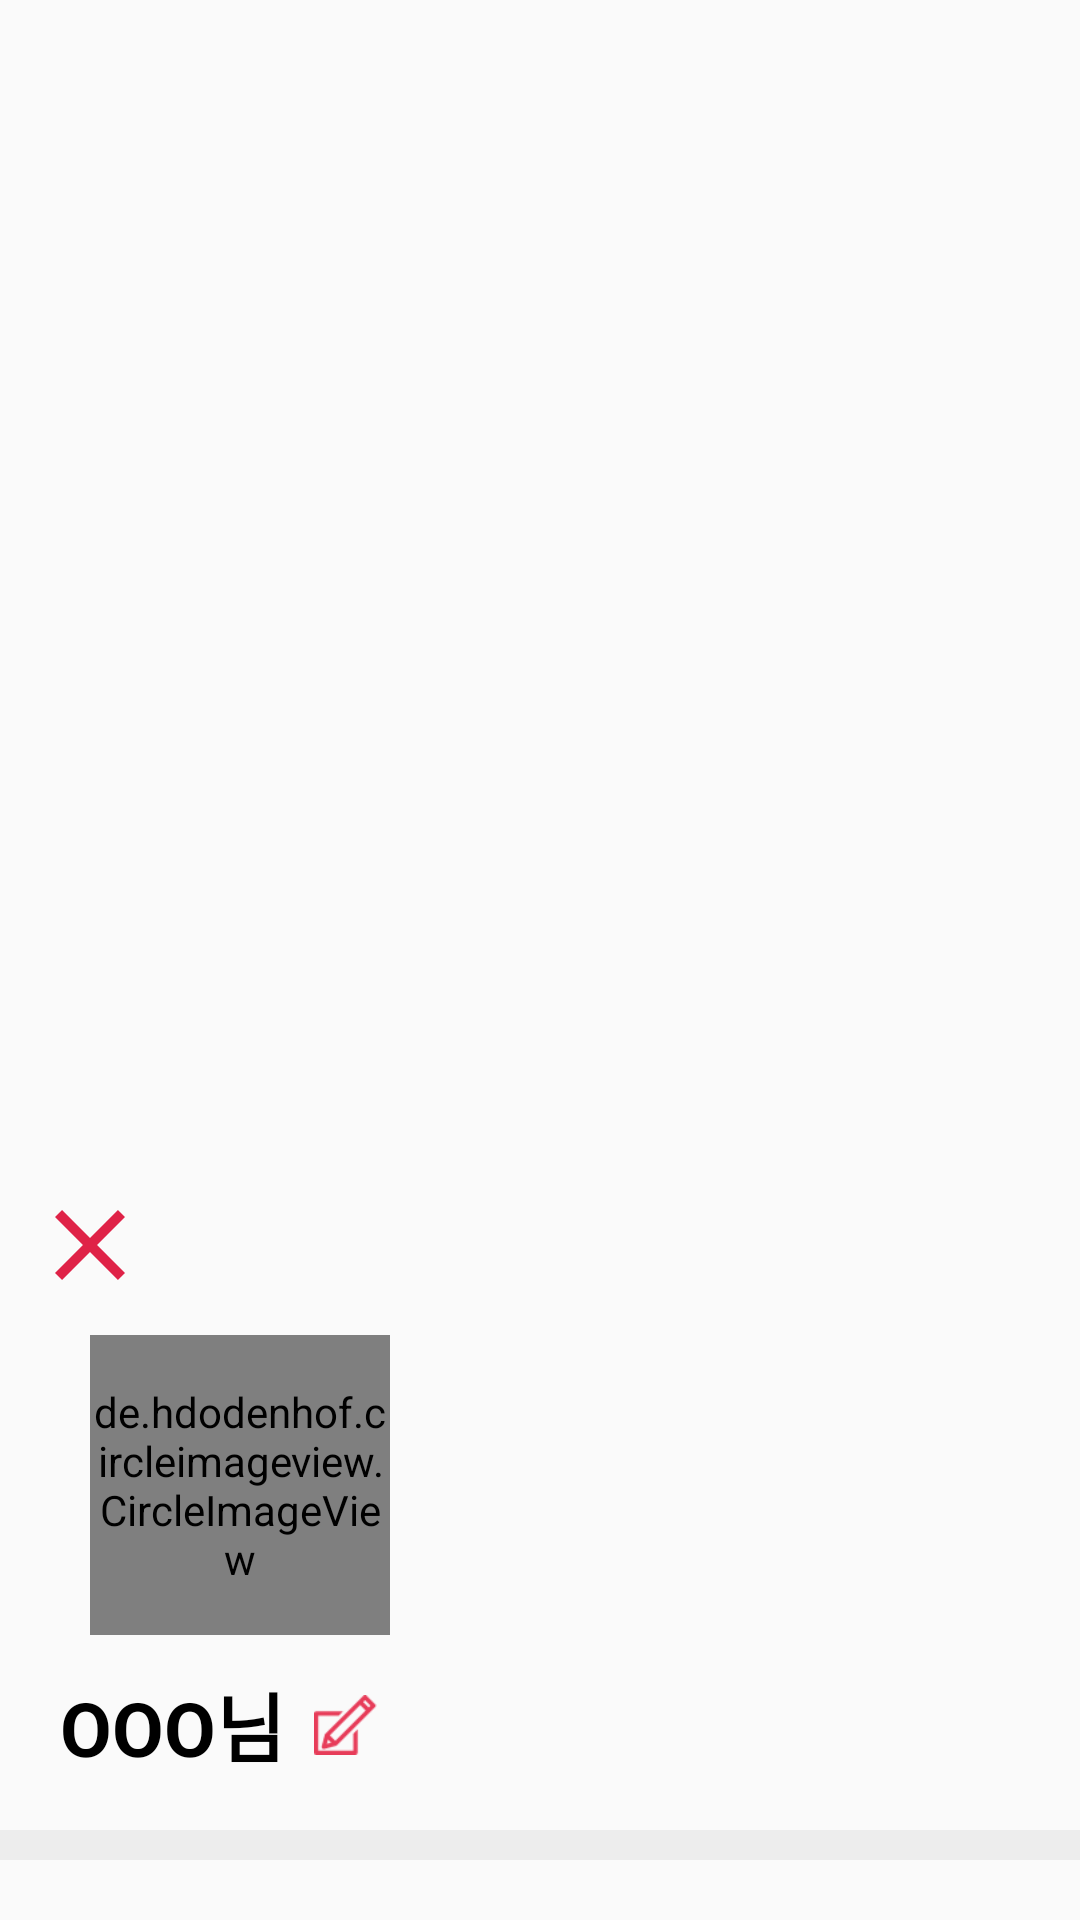

Where icons sit on this 1080 x 1920 app screen, as detection(x1, y1, x2, y2):
close: detection(55, 1210, 125, 1280)
setting shape edit: detection(314, 1695, 377, 1755)
